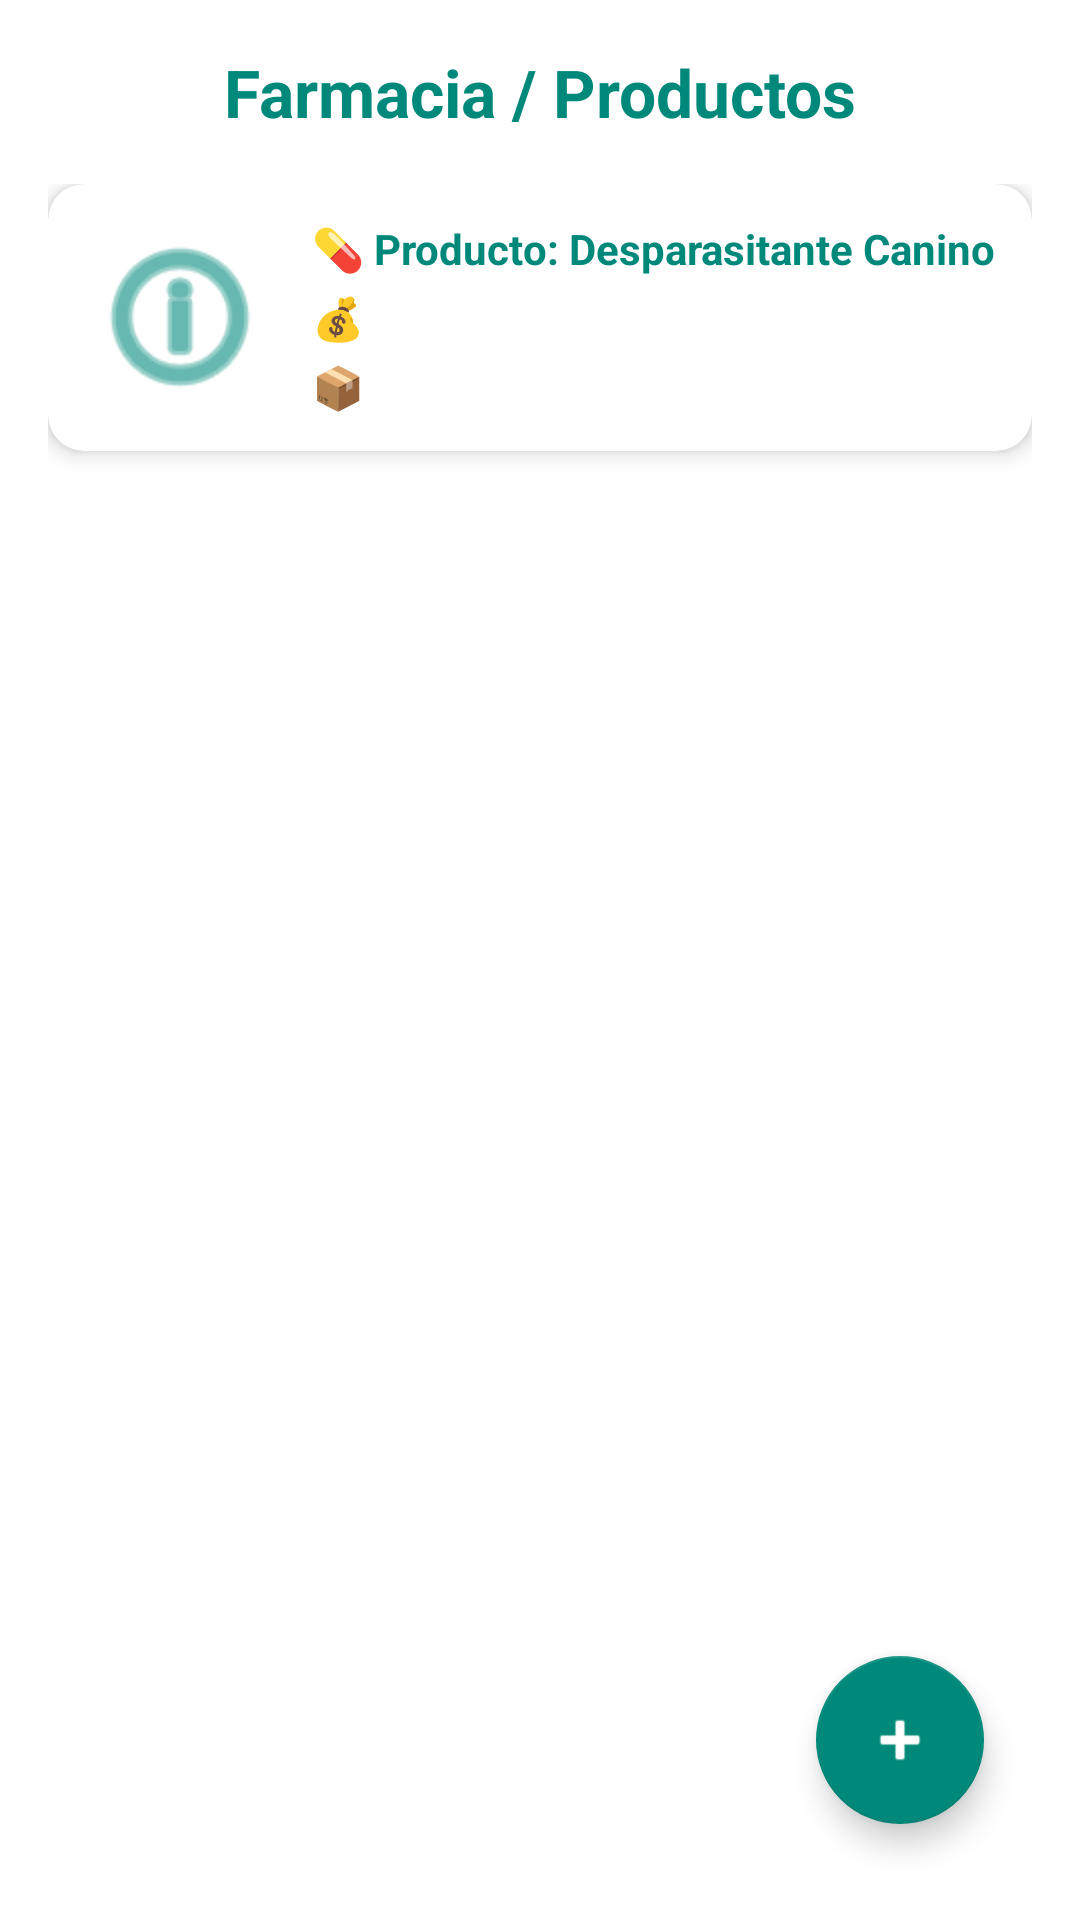

Icon bounding boxes for this 1080w x 1920h phone screenshot, format {"left": x1, "top": y1, "right": x2, "bottom": y2}:
Agregar nuevo producto: {"left": 816, "top": 1656, "right": 984, "bottom": 1824}
